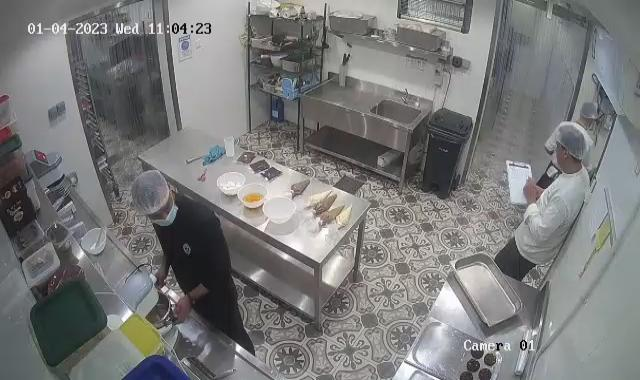hairnet: (130, 169, 170, 224), (557, 118, 588, 162)
